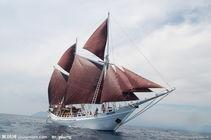fanchuan: (45, 9, 176, 133)
